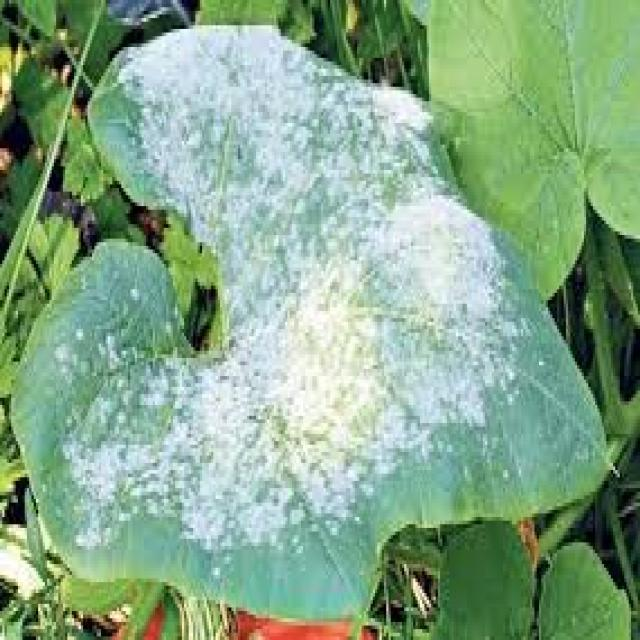powdery-mildew: (85, 51, 488, 561)
